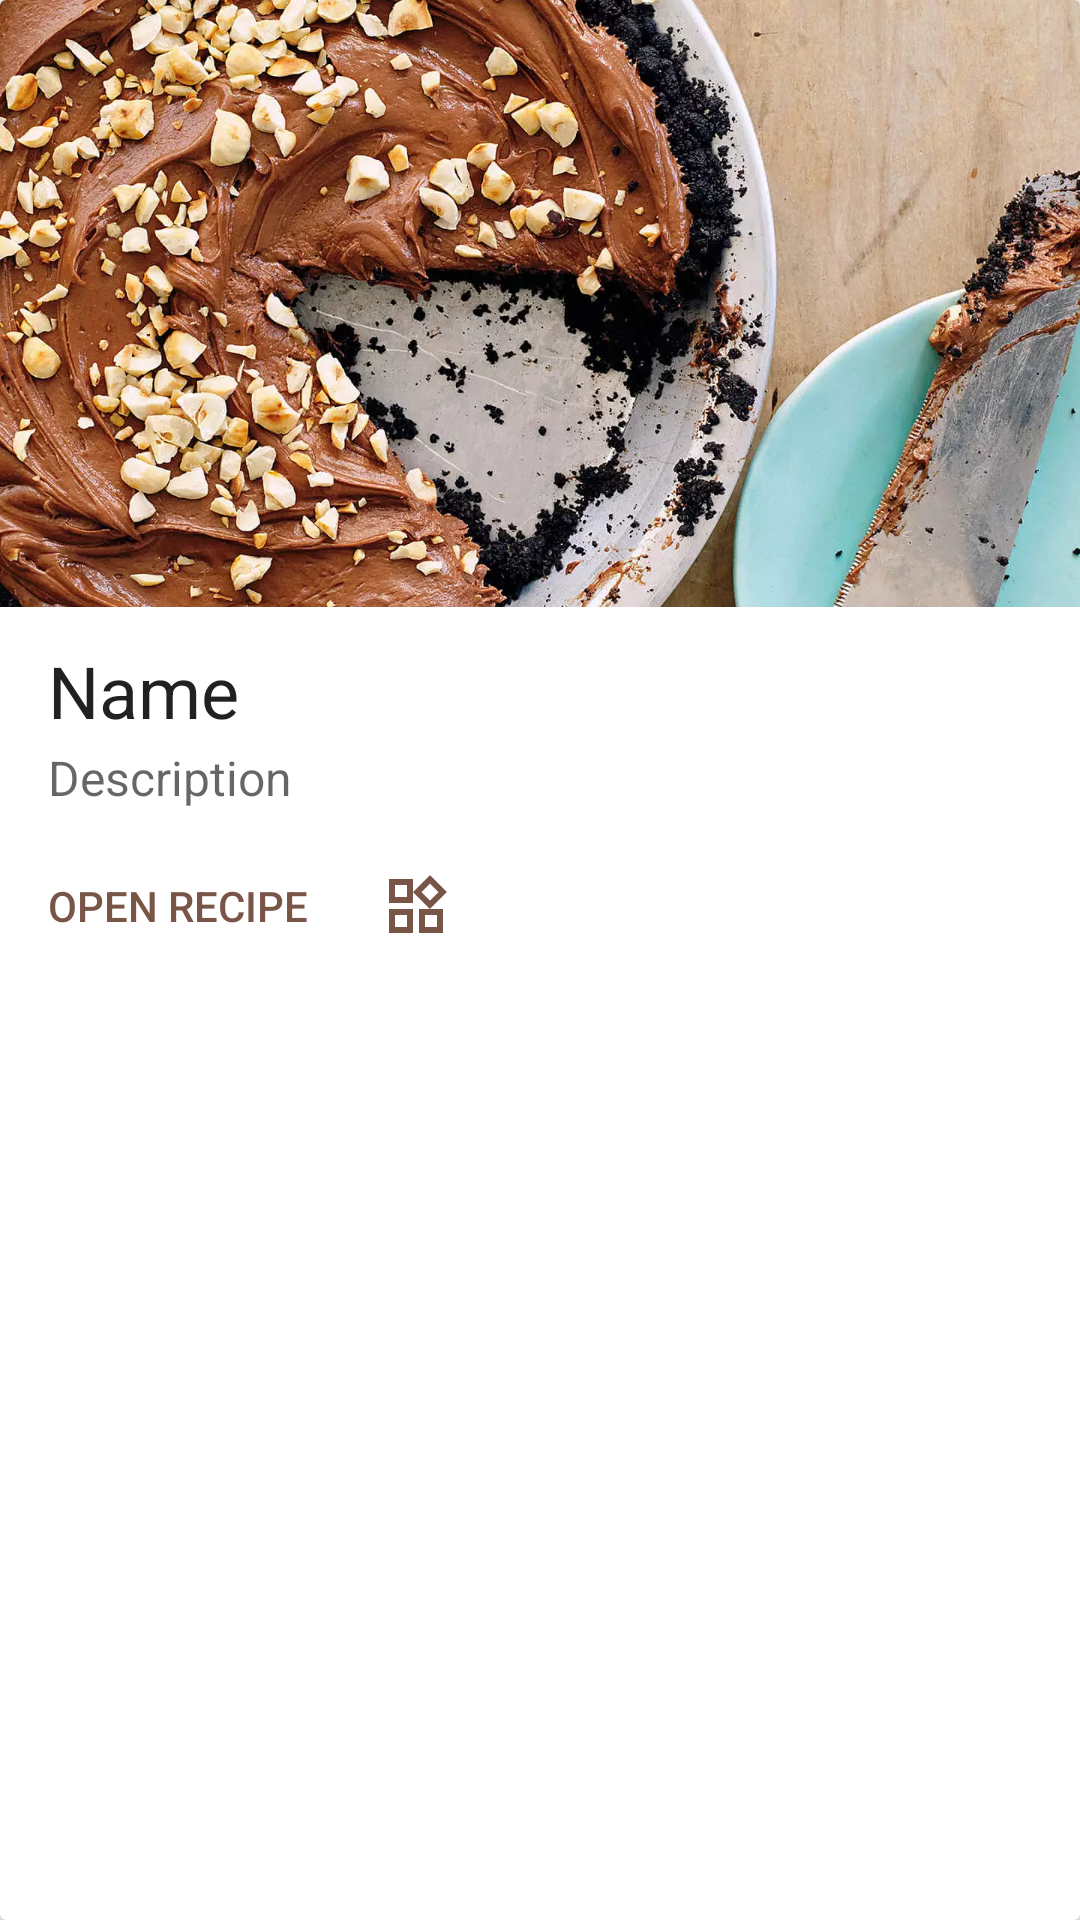

Icon click points for this 1080 × 1920 phone screenshot, format (x,y):
Widget button: (418,904)
